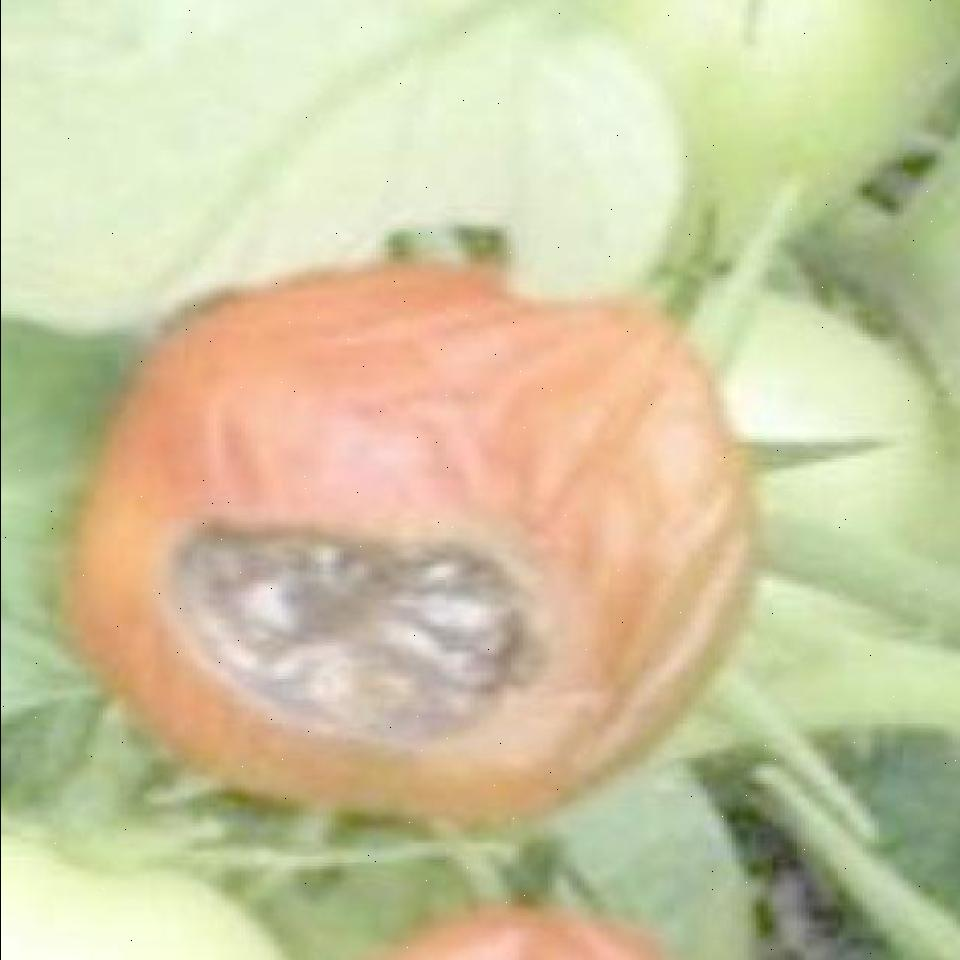Blossom_end_rot: (153, 515, 554, 747)
